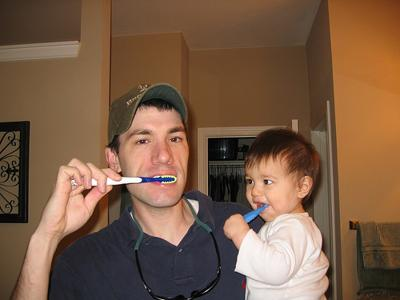person: (12, 82, 268, 300)
